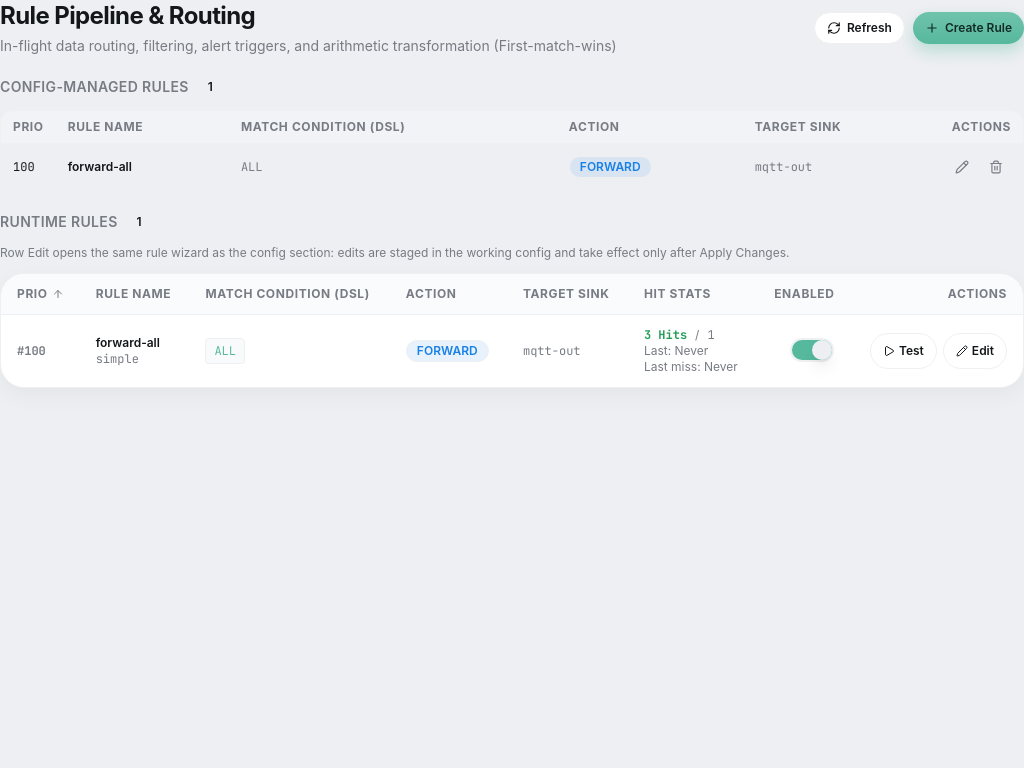
Scenario: RulesPage runtime-row edit unification › finishing the wizard stages the edit in the working config — apply stays explicit, zero PUT
Click the button "Edit": coordinates (975, 351) 943,333 -> 1007,369
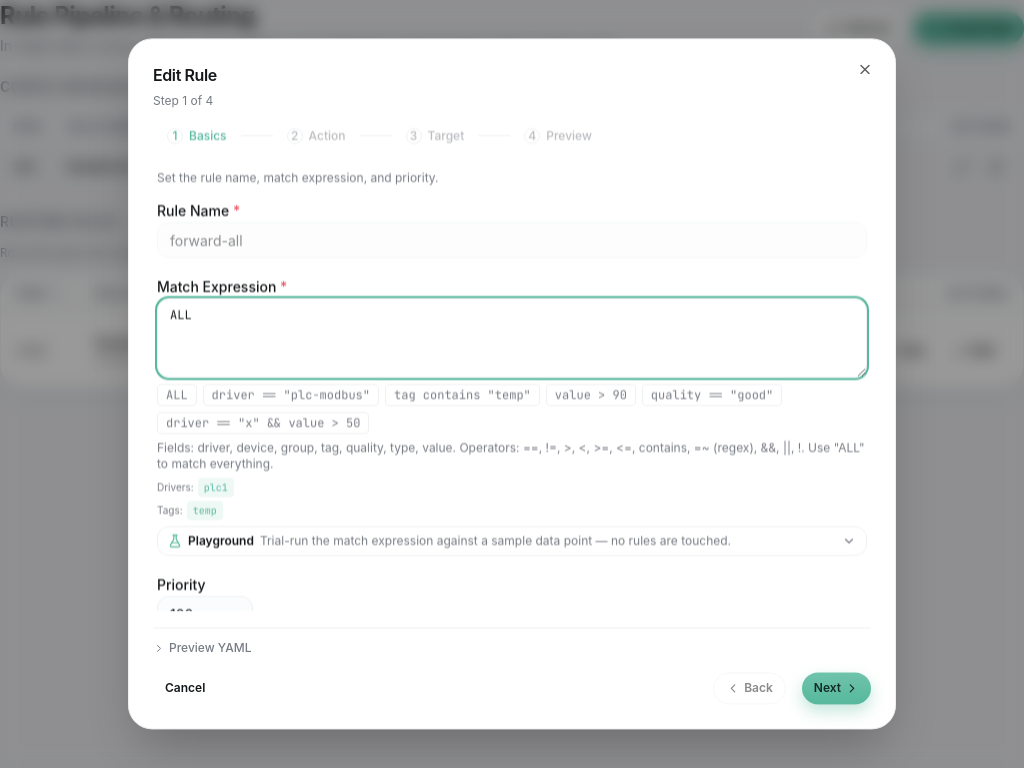
Check: the heading "Edit Rule" is shown, box 153,65 -> 217,85
Replace the text in the text box with placeholder "driver == \"plc-modbus\" && value > 50" with "value > 80": coordinates (512, 339) 157,299 -> 867,379
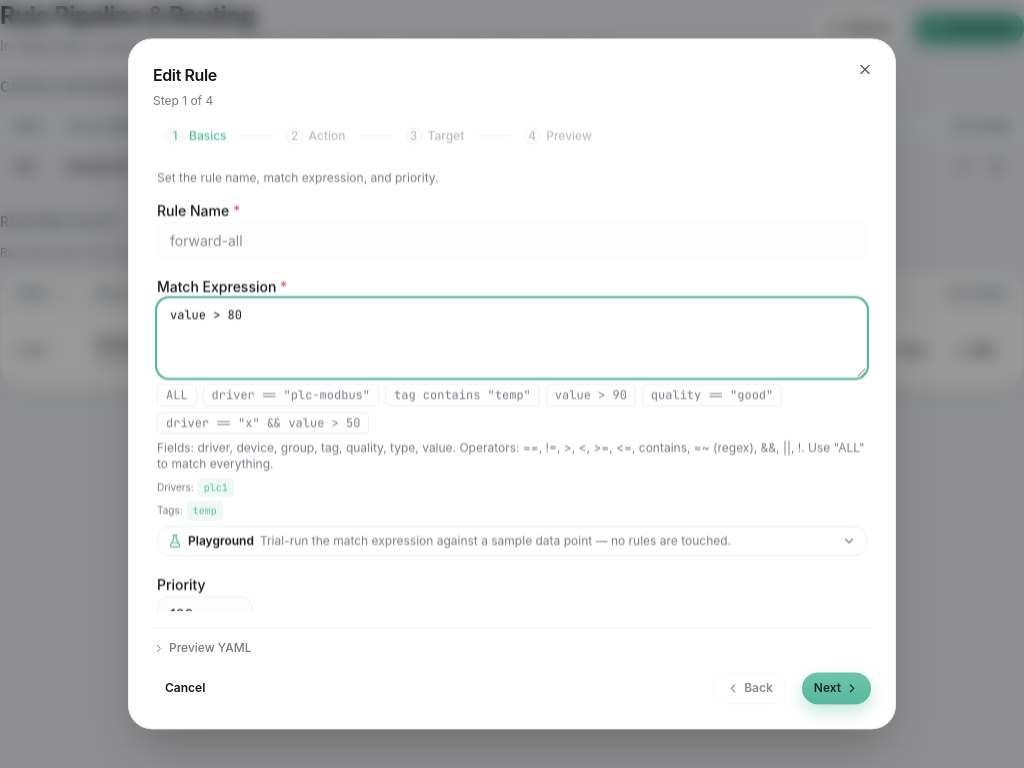
Click the button "Next": coordinates (836, 689) 802,673 -> 871,705
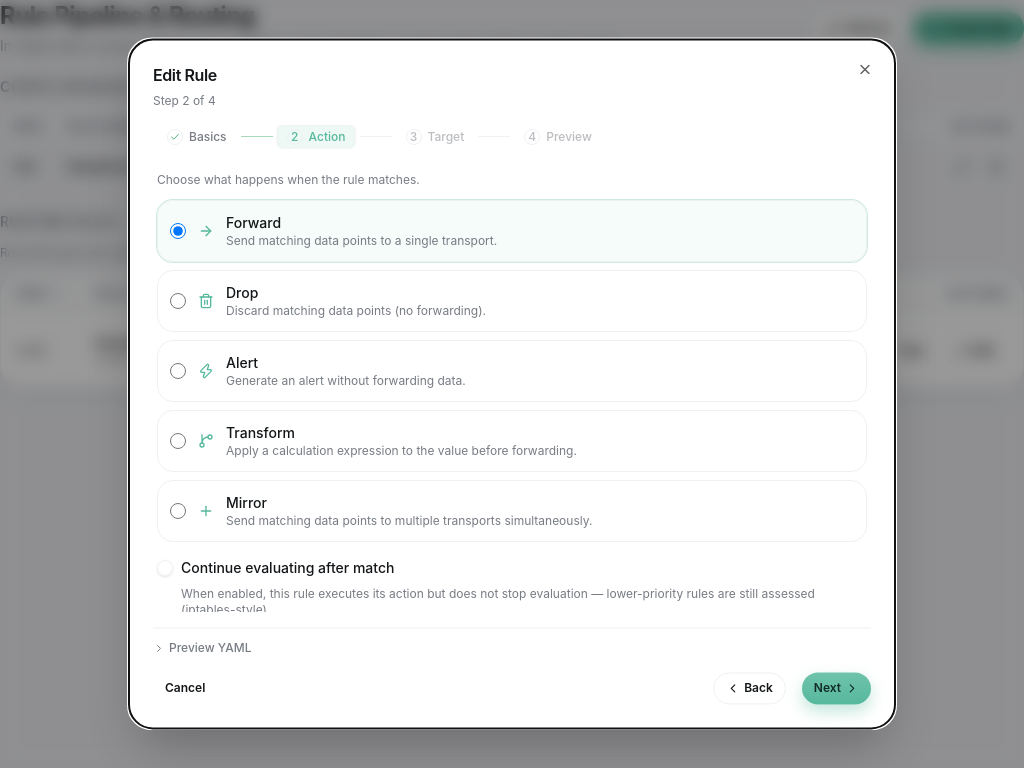
Click the button "Next": coordinates (836, 689) 802,673 -> 871,705
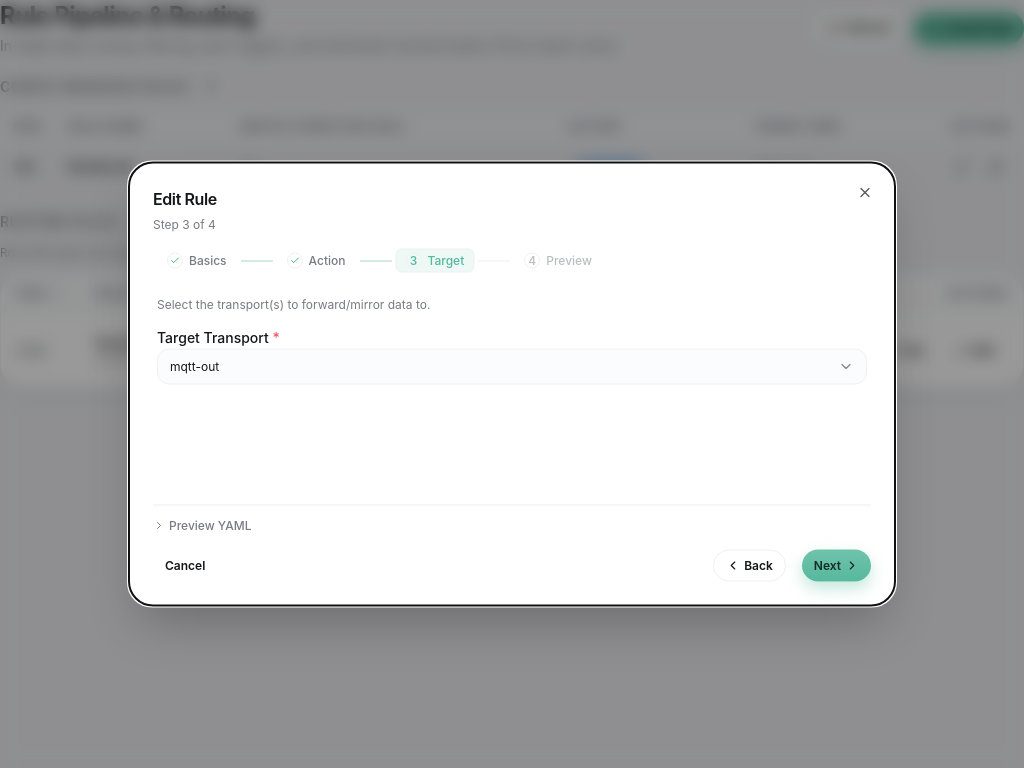
Click the button "Next": coordinates (836, 566) 802,550 -> 871,582
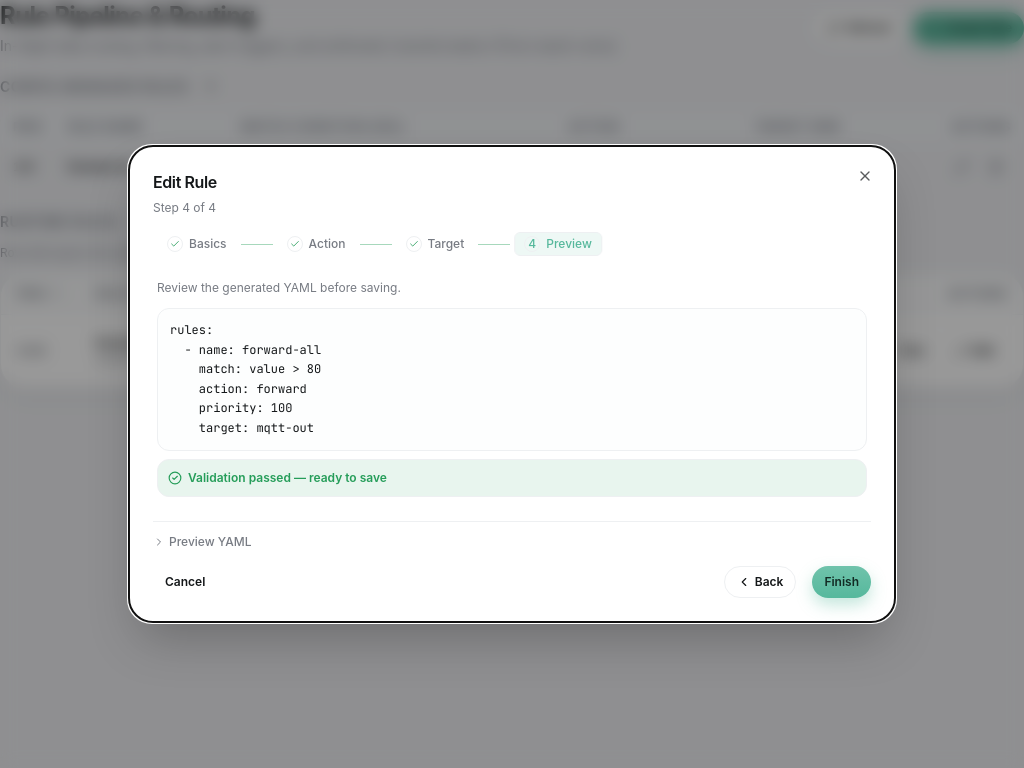
Click the button "Finish": coordinates (842, 582) 812,566 -> 871,598
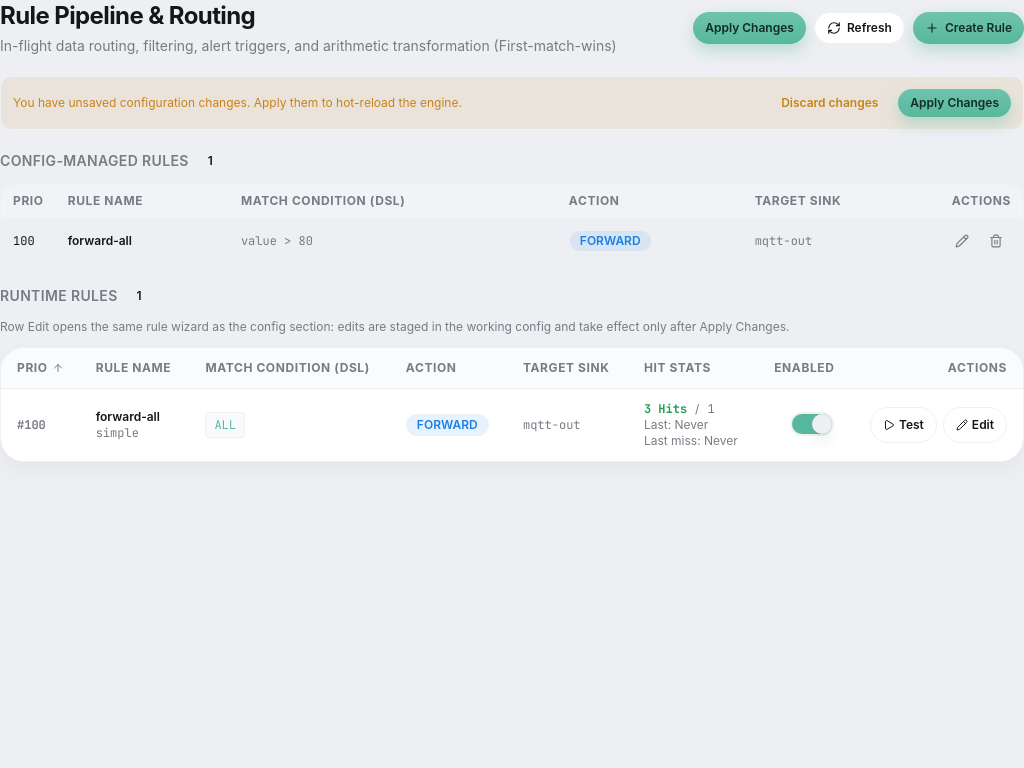
Check: the number of buttons "Apply Changes" is 2, box 693,12 -> 806,44; 898,89 -> 1011,117
Check: the heading "Edit Rule" is gone
Check: the text "You have unsaved configuration changes" is shown, box 13,95 -> 462,110
